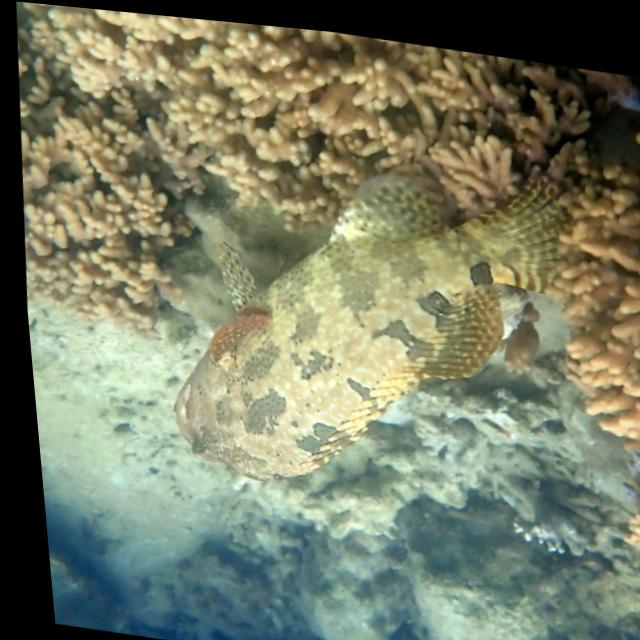Groupers: (142, 114, 592, 528)
